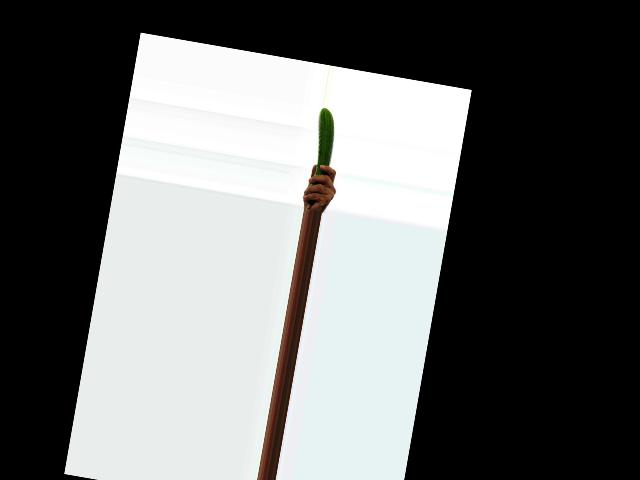cucumber: (303, 106, 339, 210)
